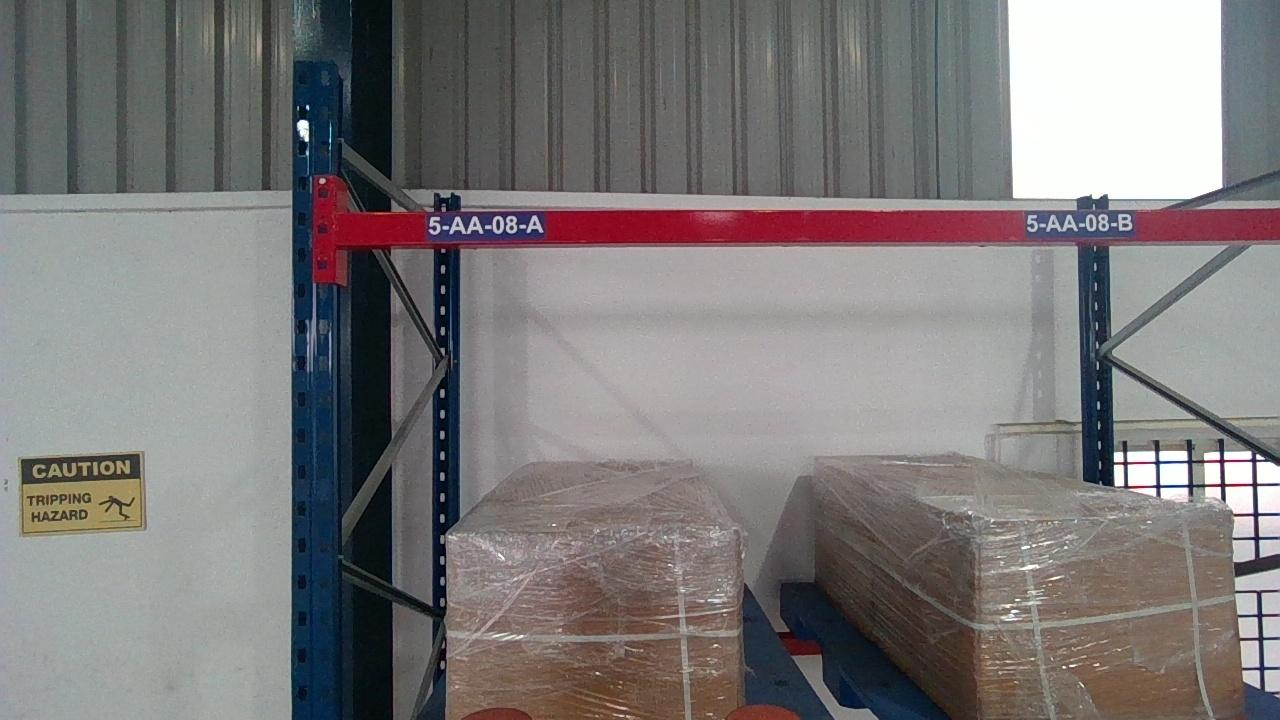h_rack: (335, 211, 1279, 243)
